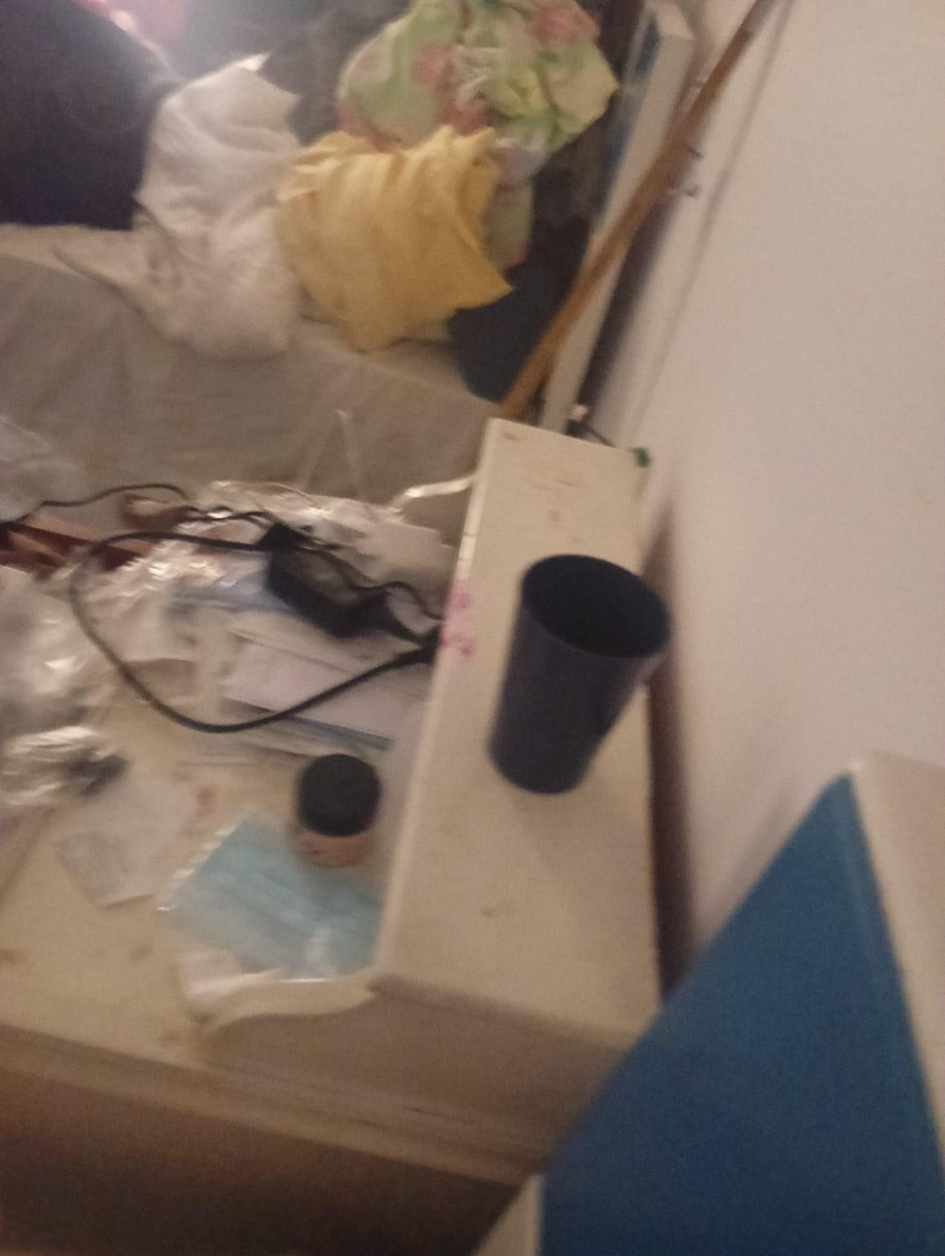cup: (488, 554, 670, 794)
